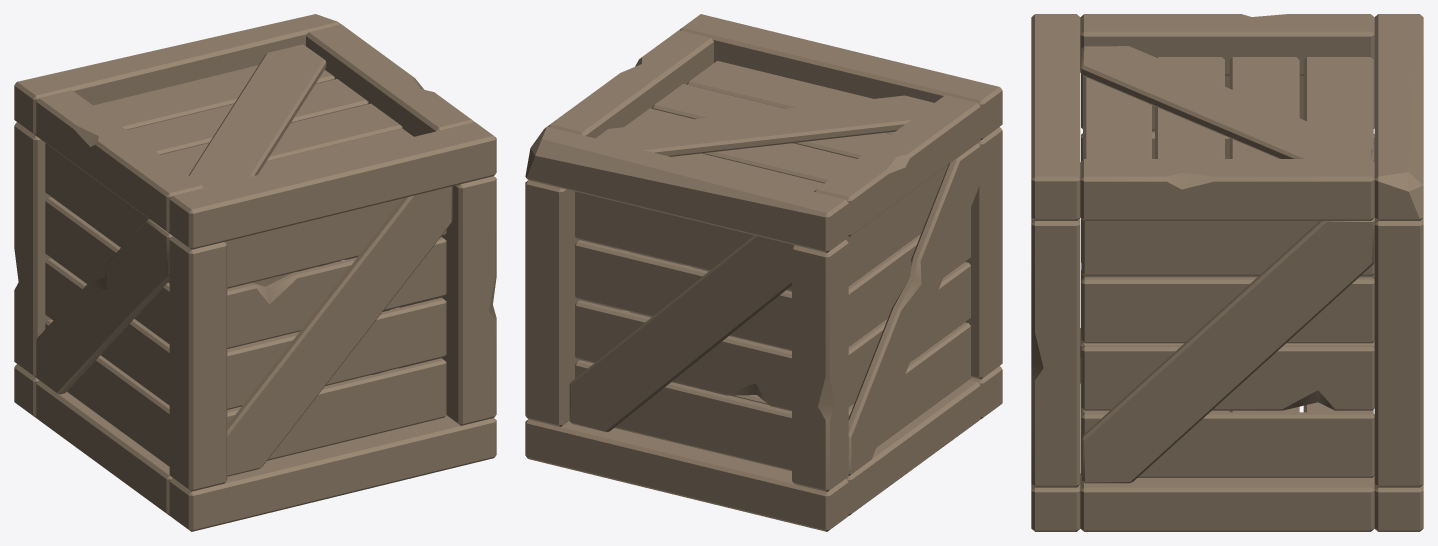
File: Crate (1).fbx
The picture shows the model from 3 angles, left to right: view 1: azimuth 30°, elevation 25°; view 2: azimuth 150°, elevation 25°; view 3: azimuth 270°, elevation 25°; orthographic projection. The views are drawn at different scales.
Visible parts, largest first — view 1: pCube39, pCube32, pCube42, pCube46, pCube47, pCube40, pCube31, pCube43, pCube13, pCube29, pCube16, pCube15 (+13 smaller); view 2: pCube40, pCube30, pCube41, pCube38, pCube31, pCube39, pCube48, pCube29, pCube43, pCube18, pCube20, pCube17 (+13 smaller); view 3: pCube33, pCube44, pCube45, pCube24, pCube47, pCube48, pCube22, pCube23, pCube43, pCube29, pCube21, pCube39 (+9 smaller).
Boxes of the visible parts, box(x1,y1,x2,y2) form: pCube39: box(169, 122, 496, 249); pCube32: box(227, 186, 452, 476); pCube42: box(169, 415, 496, 531); pCube46: box(169, 236, 227, 491); pCube47: box(439, 176, 496, 425); pCube40: box(14, 14, 340, 135); pCube31: box(36, 219, 172, 394); pCube43: box(36, 90, 204, 233); pCube13: box(227, 358, 446, 460); pCube29: box(188, 44, 326, 187); pCube16: box(227, 297, 446, 409); pCube15: box(227, 236, 446, 348); pCube40: box(525, 126, 848, 252); pCube30: box(569, 235, 794, 432); pCube41: box(525, 419, 848, 531); pCube38: box(792, 239, 848, 491); pCube31: box(848, 143, 980, 475); pCube39: box(679, 14, 1002, 139); pCube48: box(525, 180, 582, 426); pCube29: box(596, 95, 933, 156); pCube43: box(814, 95, 980, 236); pCube18: box(575, 360, 791, 471); pCube20: box(575, 240, 791, 351); pCube17: box(575, 300, 791, 411); pCube33: box(1082, 218, 1374, 483); pCube44: box(1080, 159, 1374, 220); pCube45: box(1080, 473, 1374, 531); pCube24: box(1081, 412, 1374, 477); pCube47: box(1031, 218, 1080, 487); pCube48: box(1374, 218, 1423, 487); pCube22: box(1081, 277, 1374, 343); pCube23: box(1081, 345, 1374, 410); pCube43: box(1080, 14, 1374, 75); pCube29: box(1081, 46, 1373, 161); pCube21: box(1081, 219, 1374, 275); pCube39: box(1031, 14, 1080, 220).
Bounding box in the file's own units: 0.75 × 0.75 × 0.75.
